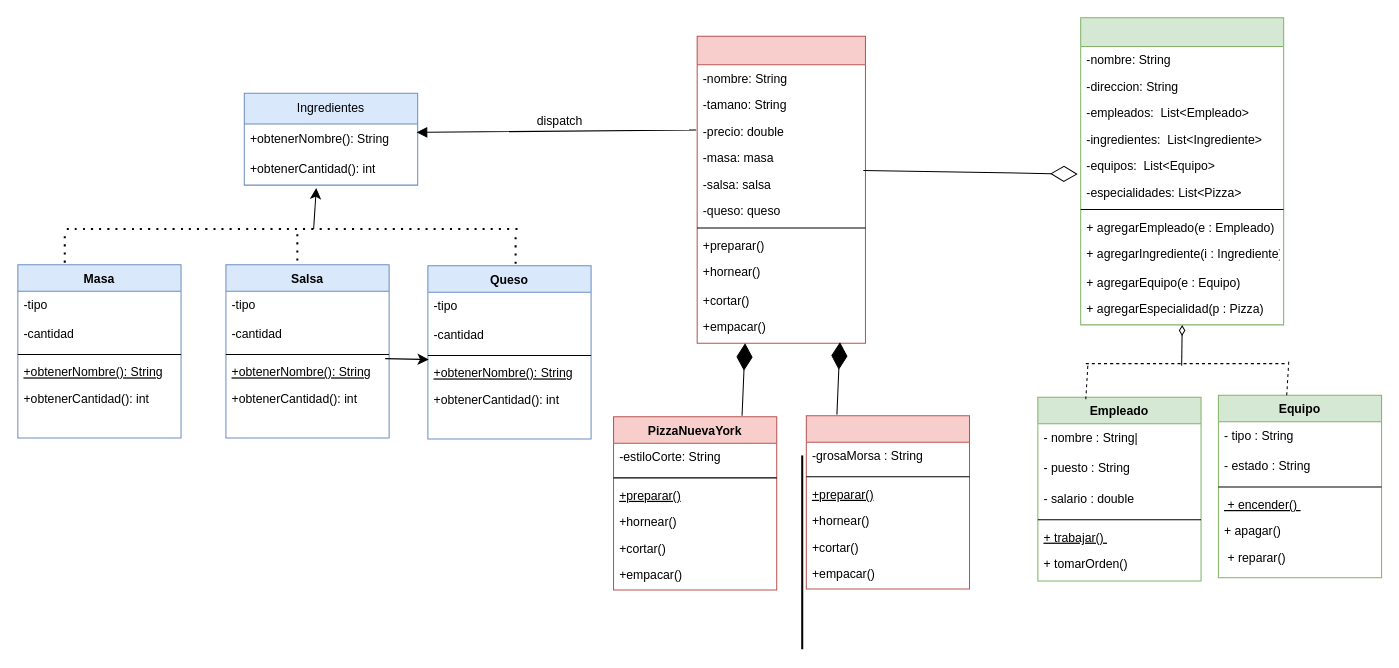
Some shapes in this 1399 by 668 pixel diagram are drawn without their labels. The shapes that lost their labels are listed below. From the top down, each one's box as (x1, y1, x2, y2) in pixels, then its label:
(696, 35, 865, 343): Pizza
(1080, 17, 1284, 325): Sucursal
(805, 415, 970, 589): PizzaChicago
